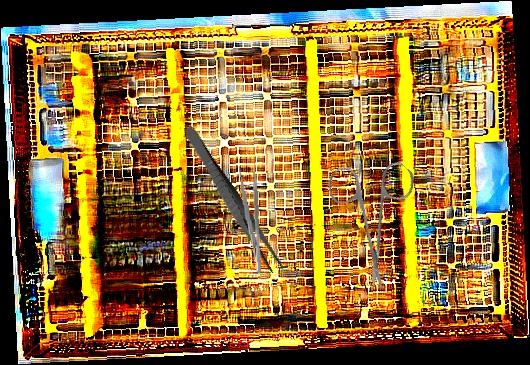Dressing Forceps: (179, 124, 285, 275), (237, 163, 265, 276)
Iris Scissors: (293, 134, 453, 293)
